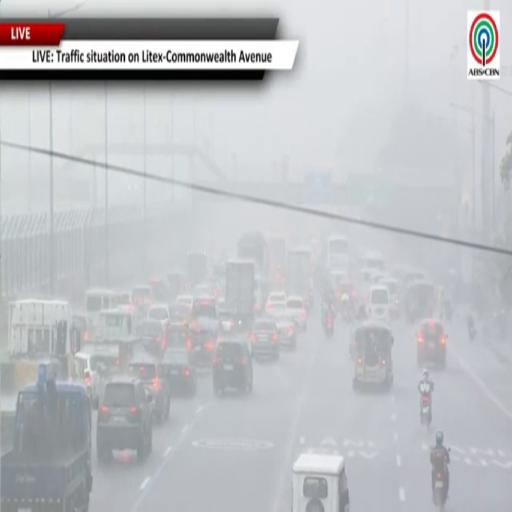car: (97, 376, 152, 462), (129, 357, 170, 421), (213, 340, 253, 394), (162, 346, 198, 396), (417, 318, 447, 367), (192, 319, 218, 367), (250, 318, 279, 360), (136, 319, 167, 355), (367, 285, 390, 322), (276, 314, 296, 349), (286, 296, 306, 331), (168, 329, 192, 353), (132, 285, 153, 312), (169, 303, 190, 325), (266, 292, 286, 314), (150, 278, 169, 301), (147, 303, 169, 322), (175, 295, 193, 312)
motorcycle: (433, 468, 447, 511), (433, 472, 446, 511), (421, 394, 431, 426), (341, 304, 353, 323), (325, 313, 333, 337), (468, 326, 476, 342)
truck: (0, 363, 97, 511), (8, 299, 80, 391), (224, 260, 254, 330), (237, 232, 269, 282), (286, 248, 312, 309), (268, 237, 285, 287), (187, 251, 208, 289)
